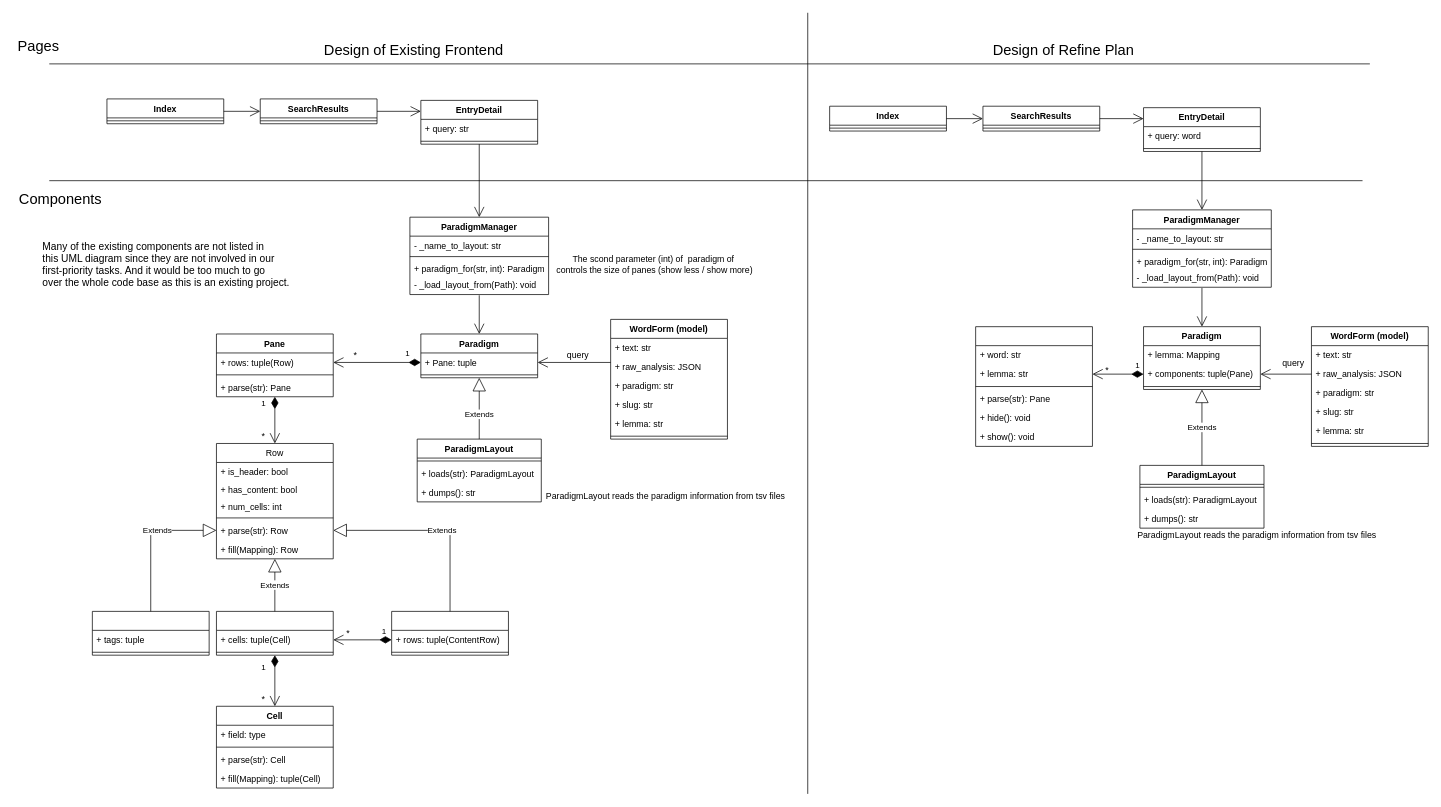
Image size: 1441x807. Some labels were removed from this diagram. The shapes that lost their labels are listed below. From the top down, each one's box as (x1, y1, x2, y2) in pixels, then its label:
(975, 326, 1092, 446): Pane (Collapse)
(92, 611, 209, 655): HeaderRow
(216, 611, 333, 655): ContentRow
(391, 611, 508, 655): CompoundRow
